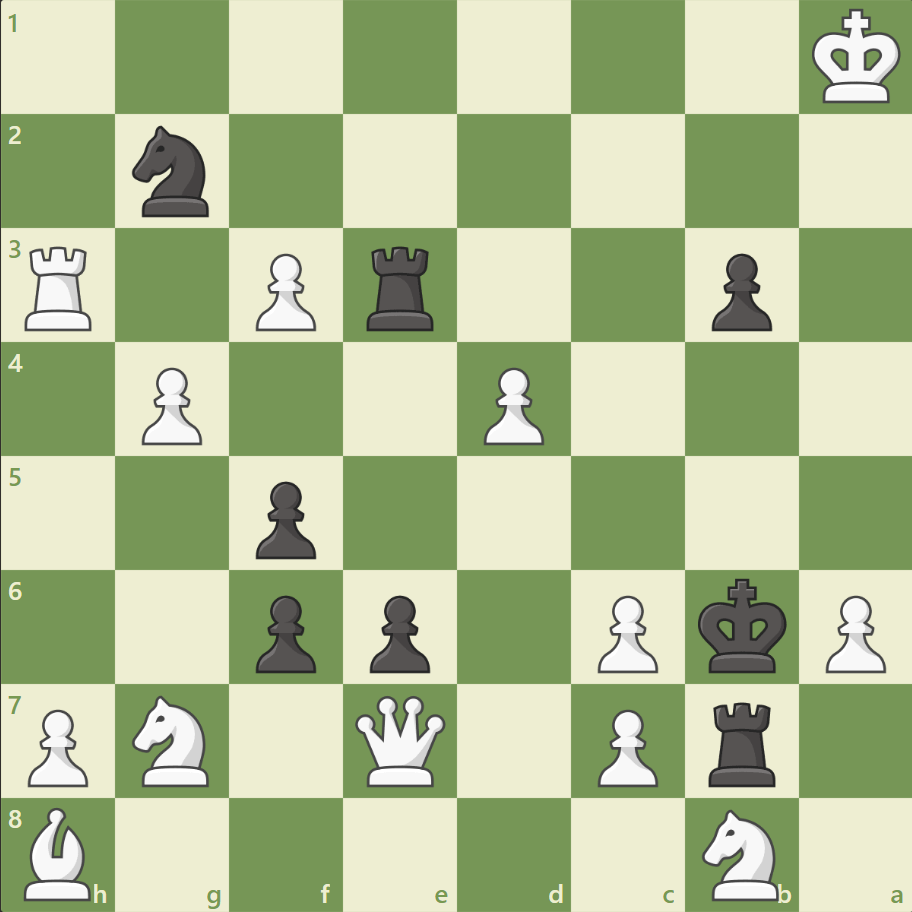B: (17, 801, 101, 904)
K: (806, 4, 906, 112)
N: (124, 688, 222, 791), (692, 802, 789, 904)
P: (20, 700, 95, 791), (474, 359, 549, 450), (133, 359, 208, 450), (247, 246, 322, 337), (588, 700, 662, 791), (815, 586, 889, 677), (588, 586, 662, 677)
Q: (351, 690, 450, 789)
R: (19, 239, 102, 336)
k: (692, 571, 792, 679)
n: (124, 121, 222, 223)
p: (247, 586, 322, 677), (247, 473, 322, 564), (701, 246, 776, 337), (361, 586, 435, 677)
r: (700, 693, 783, 790), (360, 239, 442, 336)
